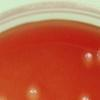white: (25, 86, 41, 100), (84, 51, 94, 64), (80, 94, 91, 100), (96, 48, 100, 63), (0, 94, 8, 100)
